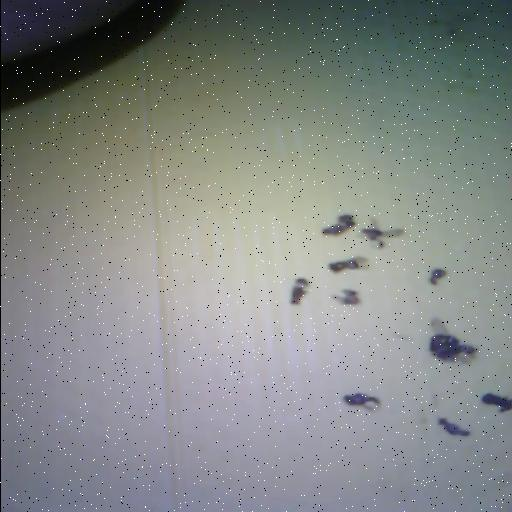Insects: (429, 318, 476, 361), (361, 218, 403, 247), (321, 214, 354, 234), (343, 392, 379, 409), (438, 417, 470, 435), (328, 256, 366, 271), (481, 392, 511, 411), (289, 278, 308, 306), (332, 289, 359, 304)
Insects 3: (418, 314, 482, 364)
